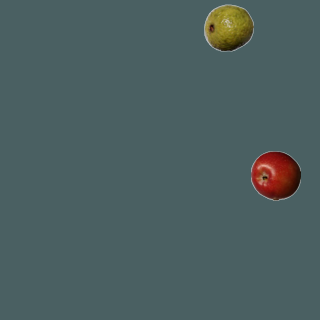Apple Braeburn: (250, 150, 300, 200)
Guava: (203, 2, 253, 52)
